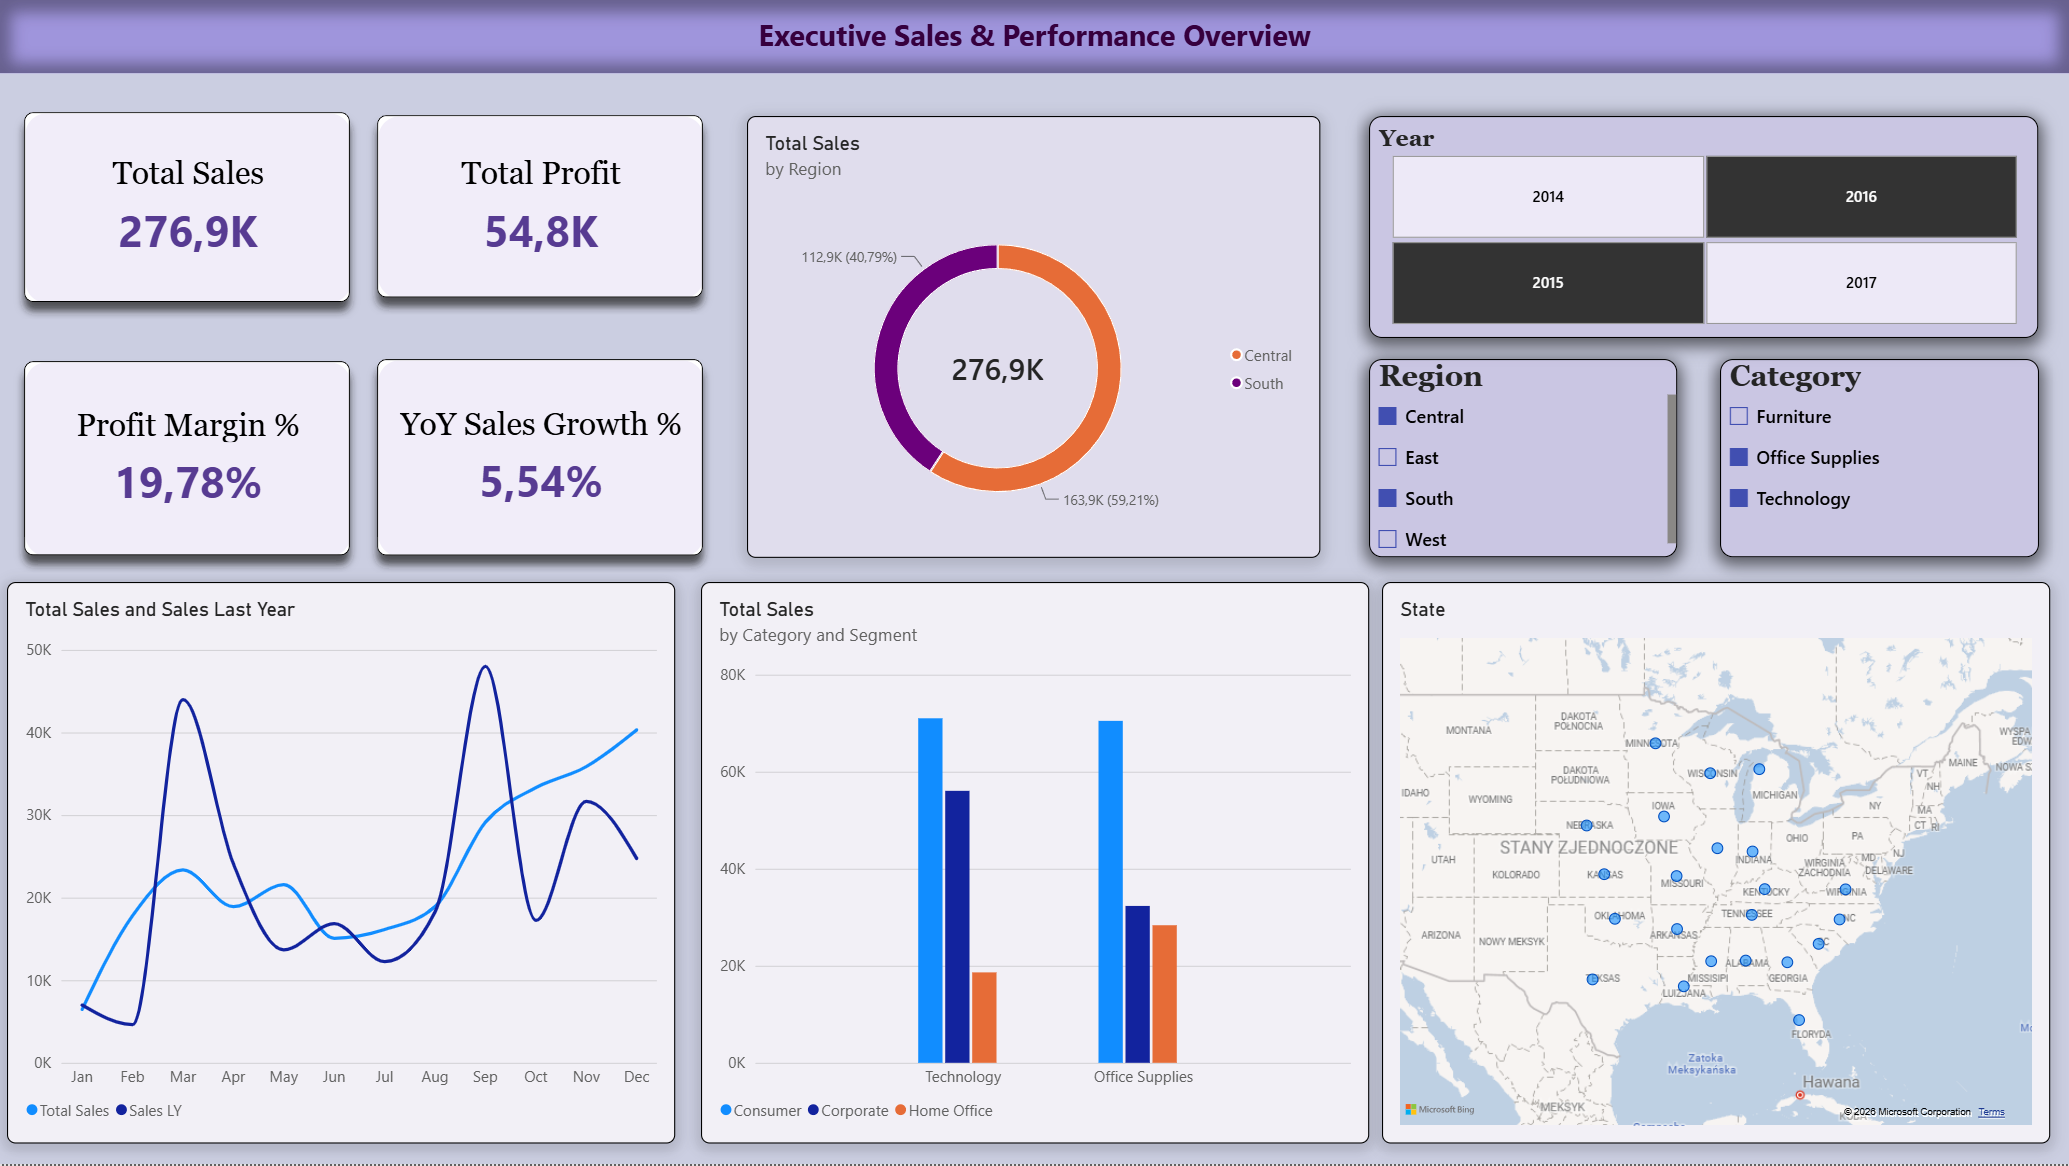

What the dashboard file says about the page in this screenshot:
{"tool":"powerbi","page":{"name":"Dashboard Project","canvas":[1920,1080],"ordinal":0},"visuals":[{"type":"textbox","box":[0,0,1920,67.8],"z":0},{"type":"cardVisual","fields":{"Data":["_Measures.Total Sales"]},"box":[6.7,87.8,334.4,208.9],"z":1000},{"type":"cardVisual","fields":{"Data":["_Measures.Profit Margin %"]},"box":[6.7,318.9,334.4,212.2],"z":2000},{"type":"cardVisual","fields":{"Data":["_Measures.Total Profil"]},"box":[334.4,91.1,334.4,201.1],"z":3000},{"type":"lineChart","title":"Total Sales and Sales Last Year","fields":{"Category":["Calendar.Month"],"Y":["_Measures.Total Sales","_Measures.Sales LY"]},"box":[6.7,540,620,521.1],"z":4000},{"type":"slicer","fields":{"Values":["Superstore.Category"]},"box":[1595.6,333.3,295.6,184.4],"z":5000},{"type":"clusteredColumnChart","fields":{"Category":["Superstore.Category"],"Series":["Superstore.Segment"],"Y":["_Measures.Total Sales"]},"box":[650,540,620,521.1],"z":6000},{"type":"map","fields":{"Category":["Superstore.State"]},"box":[1282.2,540,620,521.1],"z":7000},{"type":"slicer","fields":{"Values":["Calendar.Year"]},"box":[1270,107.8,621.1,205.6],"z":8000},{"type":"slicer","fields":{"Values":["Superstore.Region"]},"box":[1270,333.3,285.6,184.4],"z":9000},{"type":"cardVisual","fields":{"Data":["_Measures.YoY Sales Growth %"]},"box":[334.4,317.8,334.4,214.4],"z":10000},{"type":"donutChart","fields":{"Category":["Superstore.Region"],"Y":["_Measures.Total Sales"]},"box":[693.3,107.8,532.2,410],"z":11000}]}

Visuals, with their boxes in screenshot pixels (x1, y1, x2, y2), scaled from the page's 1920x1080 canvas onto the 2069x1166 screenshot:
textbox: (left=0, top=0, right=2068, bottom=73)
cardVisual - _Measures.Total Sales: (left=7, top=95, right=368, bottom=320)
cardVisual - _Measures.Profit Margin %: (left=7, top=344, right=368, bottom=573)
cardVisual - _Measures.Total Profil: (left=360, top=98, right=721, bottom=315)
"Total Sales and Sales Last Year" lineChart: (left=7, top=583, right=675, bottom=1146)
slicer - Superstore.Category: (left=1719, top=360, right=2038, bottom=559)
clusteredColumnChart - Superstore.Category x Superstore.Segment: (left=700, top=583, right=1369, bottom=1146)
map - Superstore.State: (left=1382, top=583, right=2050, bottom=1146)
slicer - Calendar.Year: (left=1369, top=116, right=2038, bottom=338)
slicer - Superstore.Region: (left=1369, top=360, right=1676, bottom=559)
cardVisual - _Measures.YoY Sales Growth %: (left=360, top=343, right=721, bottom=575)
donutChart - Superstore.Region x _Measures.Total Sales: (left=747, top=116, right=1321, bottom=559)
